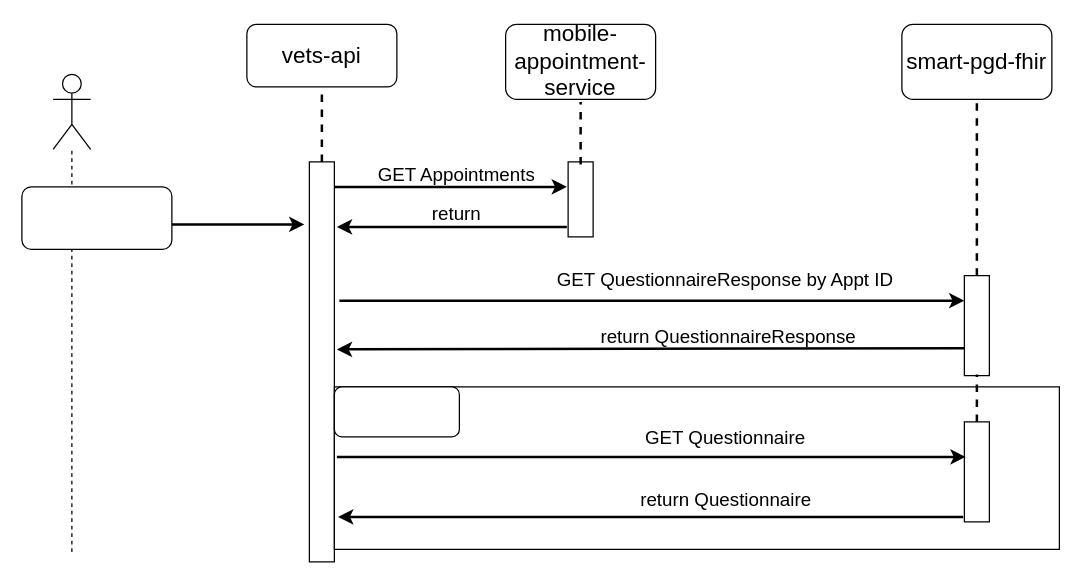
Some shapes in this 1081 by 584 pixel diagram are drawn without their labels. The box of each missing label's shape, as (x1, y1, x2, y2) in pixels:
Alt [QR == null]: (333, 386, 459, 437)
va.gov Clipboard: (21, 186, 172, 249)
